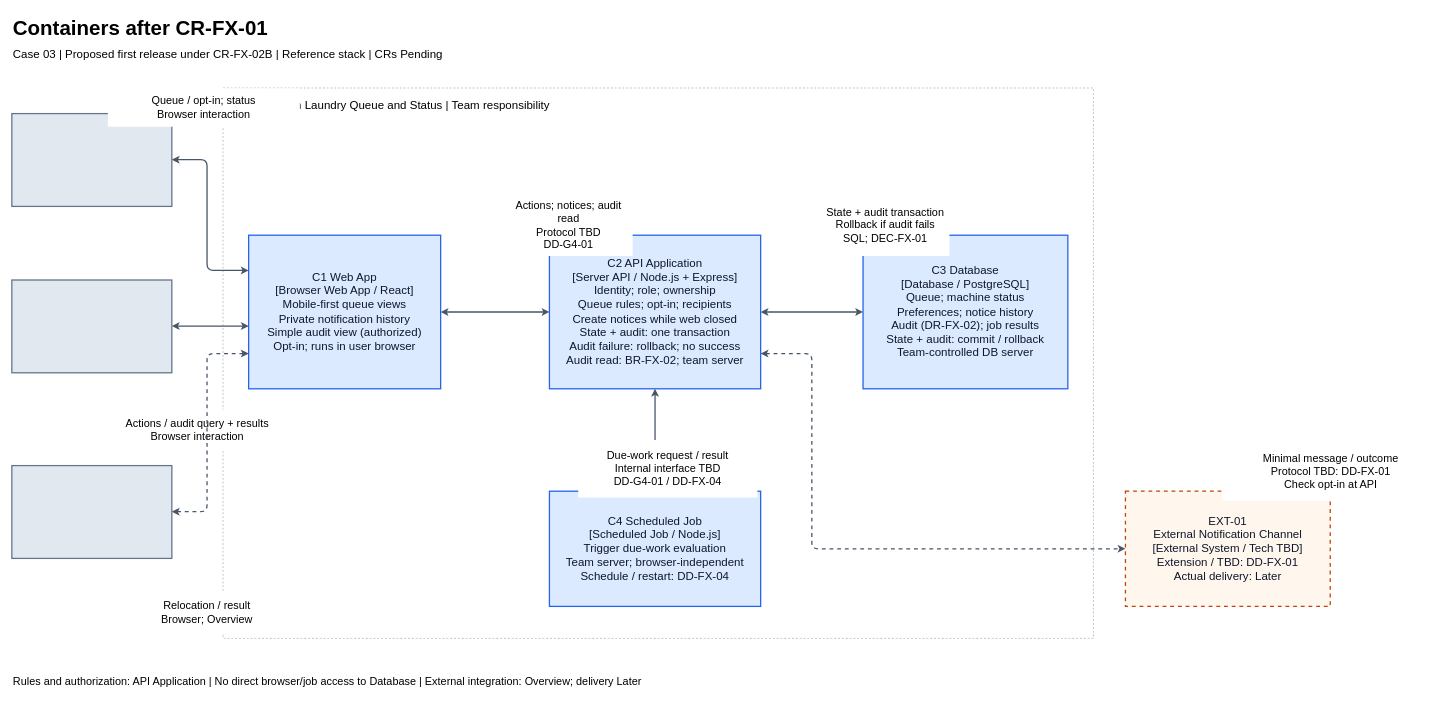
Some shapes in this 1450 by 713 pixel diagram are drawn without their labels. Each missing label, with the centre of its shape:
"ACT-01 Resident [Person / Core] Queue; status; opt-in" goes at [91,160].
"ACT-02 Dorm Admin [Person / Core] Machine actions; read audit" goes at [91,326].
"ACT-03 Maid [Person / Core] Relocation: Overview" goes at [91,512].
